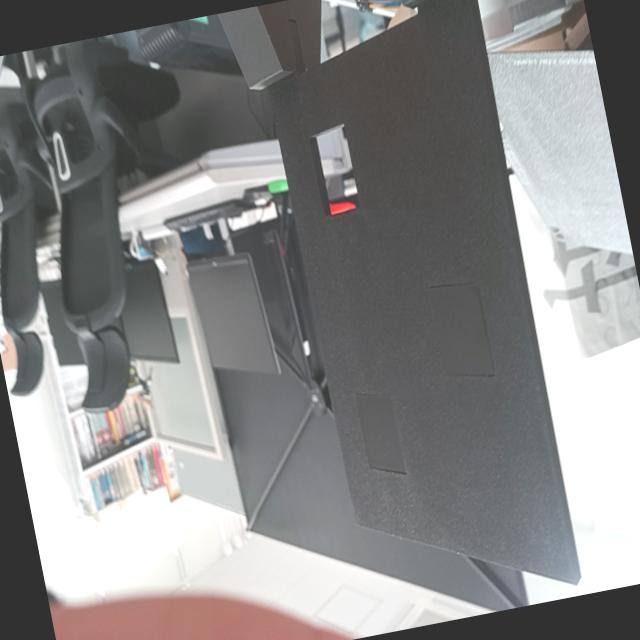Obstacle: (312, 122, 359, 217)
Wall: (271, 0, 580, 582)
